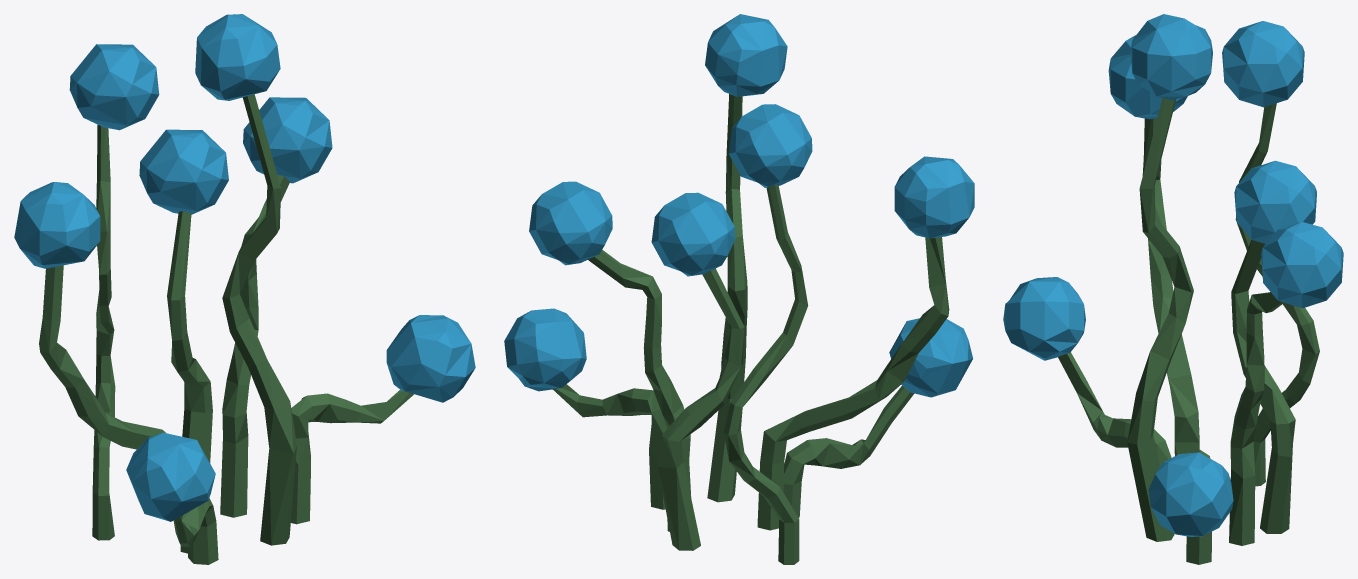
File: flower_6.obj
The picture shows the model from 3 angles, left to right: view 1: azimuth 30°, elevation 25°; view 2: azimuth 150°, elevation 25°; view 3: azimuth 270°, elevation 25°; orthographic projection. The views are drawn at different scales.
Parts seen in each view (by area): view 1: flower_6; view 2: flower_6; view 3: flower_6.
Part boxes in pixels (x1,y1,x2,y2): flower_6: (14, 14, 475, 564); flower_6: (504, 14, 974, 564); flower_6: (1003, 14, 1343, 564).
Size of the model in its own units: 0.9388 by 1 by 0.6121.
